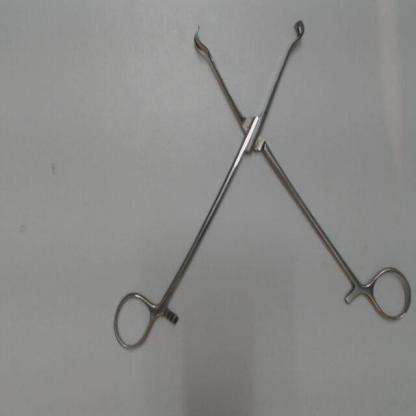8 Babcock Tissue Forceps: (107, 13, 414, 358)
